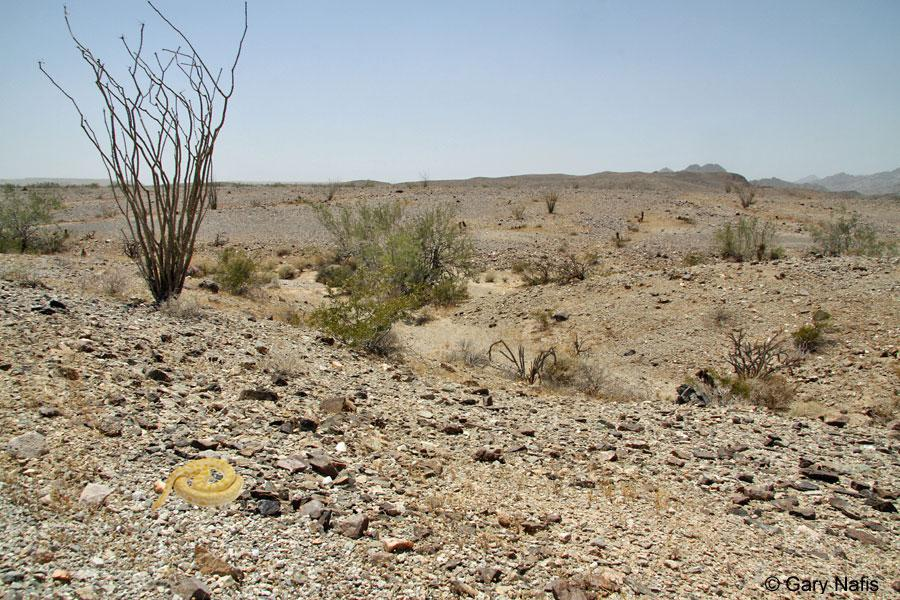vib3: (151, 458, 244, 511)
